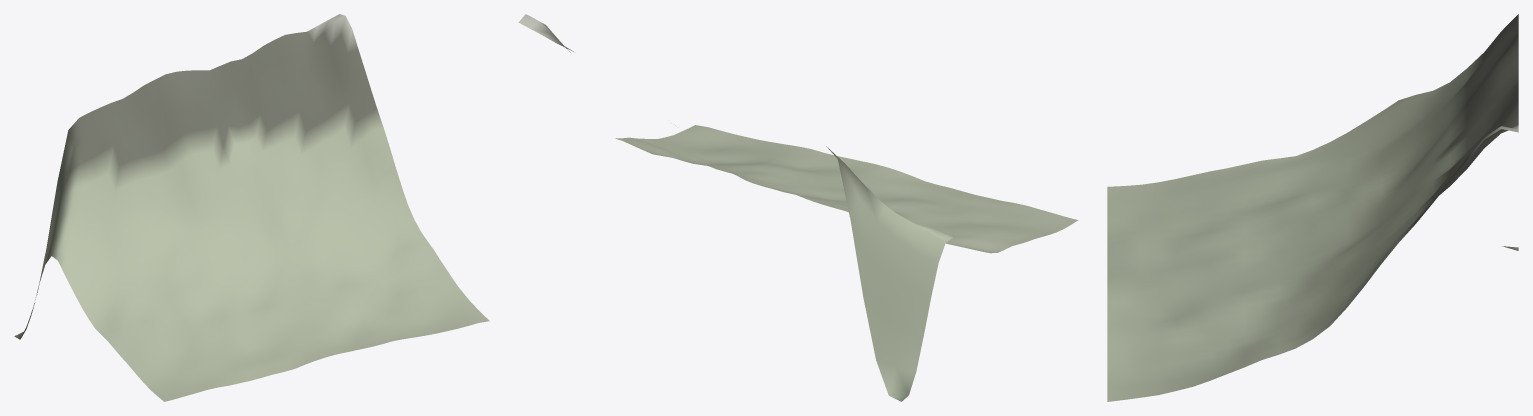
The picture shows the model from 3 angles, left to right: view 1: azimuth 30°, elevation 25°; view 2: azimuth 150°, elevation 25°; view 3: azimuth 270°, elevation 25°; orthographic projection. The views are drawn at different scales.
Visible parts, largest first — view 1: world-ground/150-24; view 2: world-ground/150-24; view 3: world-ground/150-24.
Part boxes in pixels (bbox=[...]): world-ground/150-24: bbox=[14, 14, 489, 401]; world-ground/150-24: bbox=[518, 14, 1078, 401]; world-ground/150-24: bbox=[1107, 14, 1518, 401].
Size of the model in its own units: 37.5 by 27.04 by 30.
